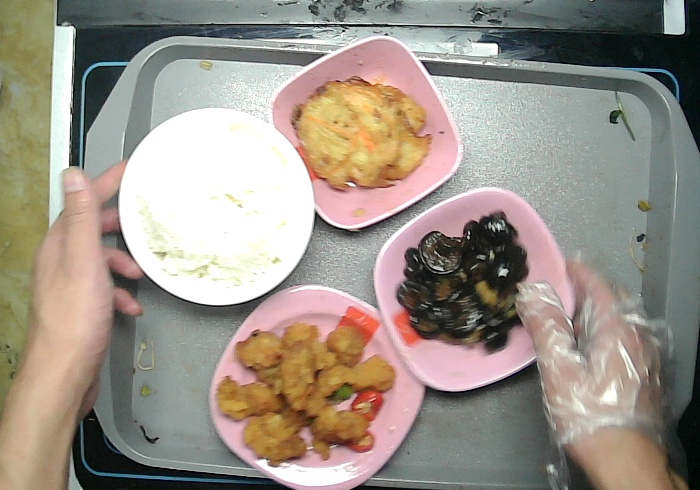SHKJ-Fan_Wan: (116, 107, 315, 305)
SHKJ-Fen_Se_Cai_Die: (373, 187, 575, 391)
SHKJ-Fen_Se_Si_Fang_Cai_Die: (208, 283, 426, 490)
SHKJ-Fen_Se_Xiao_Fang_Die: (268, 35, 465, 228)
